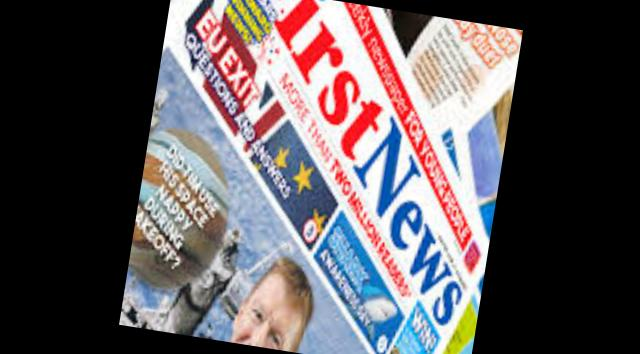cardboard paper: (118, 0, 489, 354)
